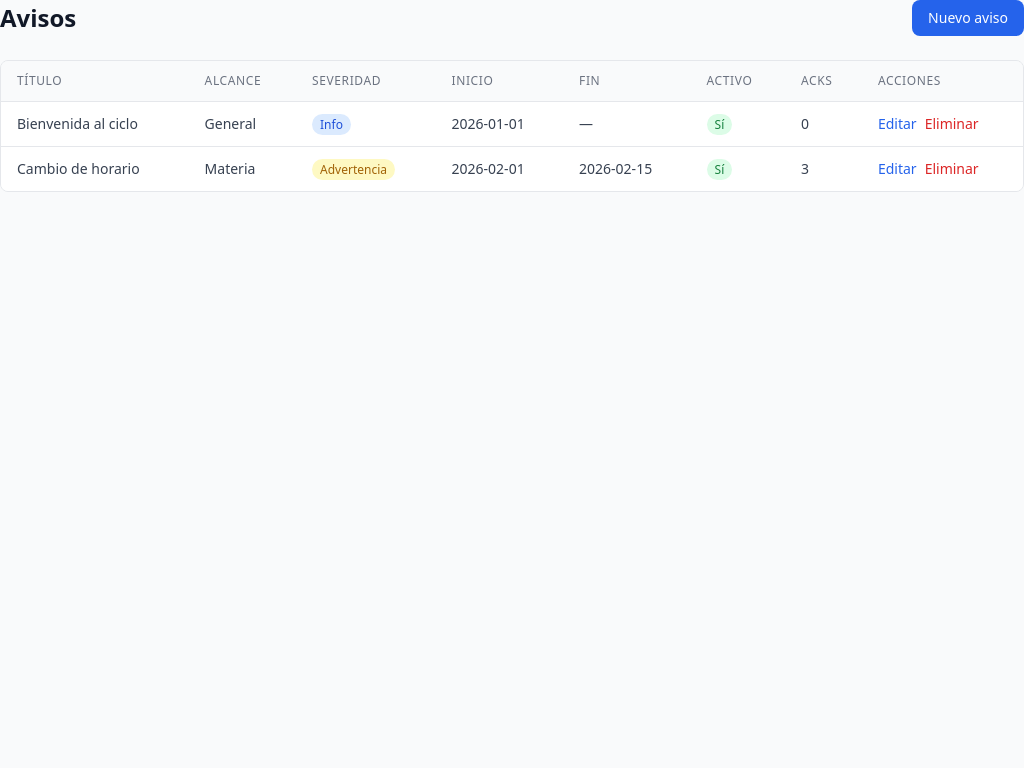
Test: AvisosPage › abre el formulario de creación al hacer clic en nuevo aviso
What coordinates should you click on to do the following:
click the button "Nuevo aviso"
I would click on:
 (968, 18)
Its box is [912,0,1023,36].
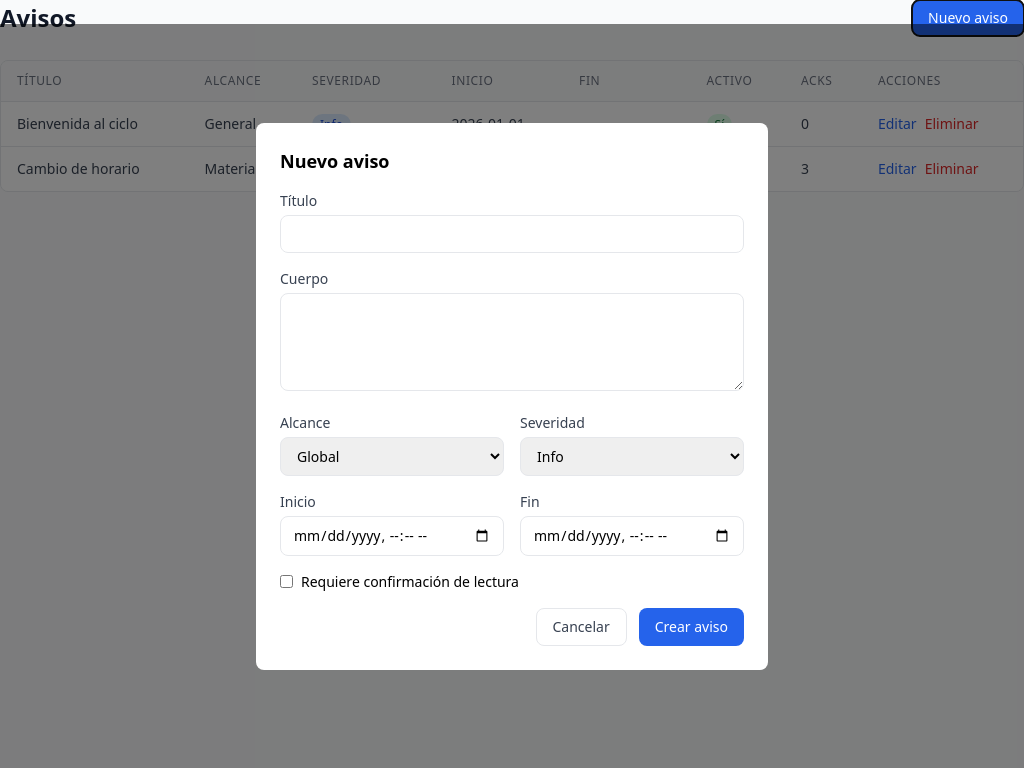
Result: the heading "Nuevo aviso" is shown at [280,148,390,172]
